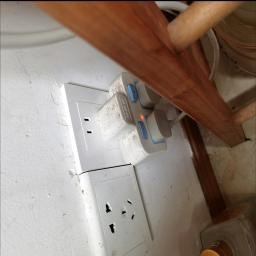outlet: (68, 77, 132, 175), (88, 162, 145, 256)
